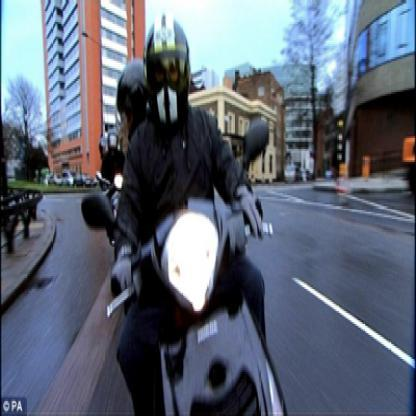With Helmet: (144, 17, 192, 122), (114, 52, 152, 137)
